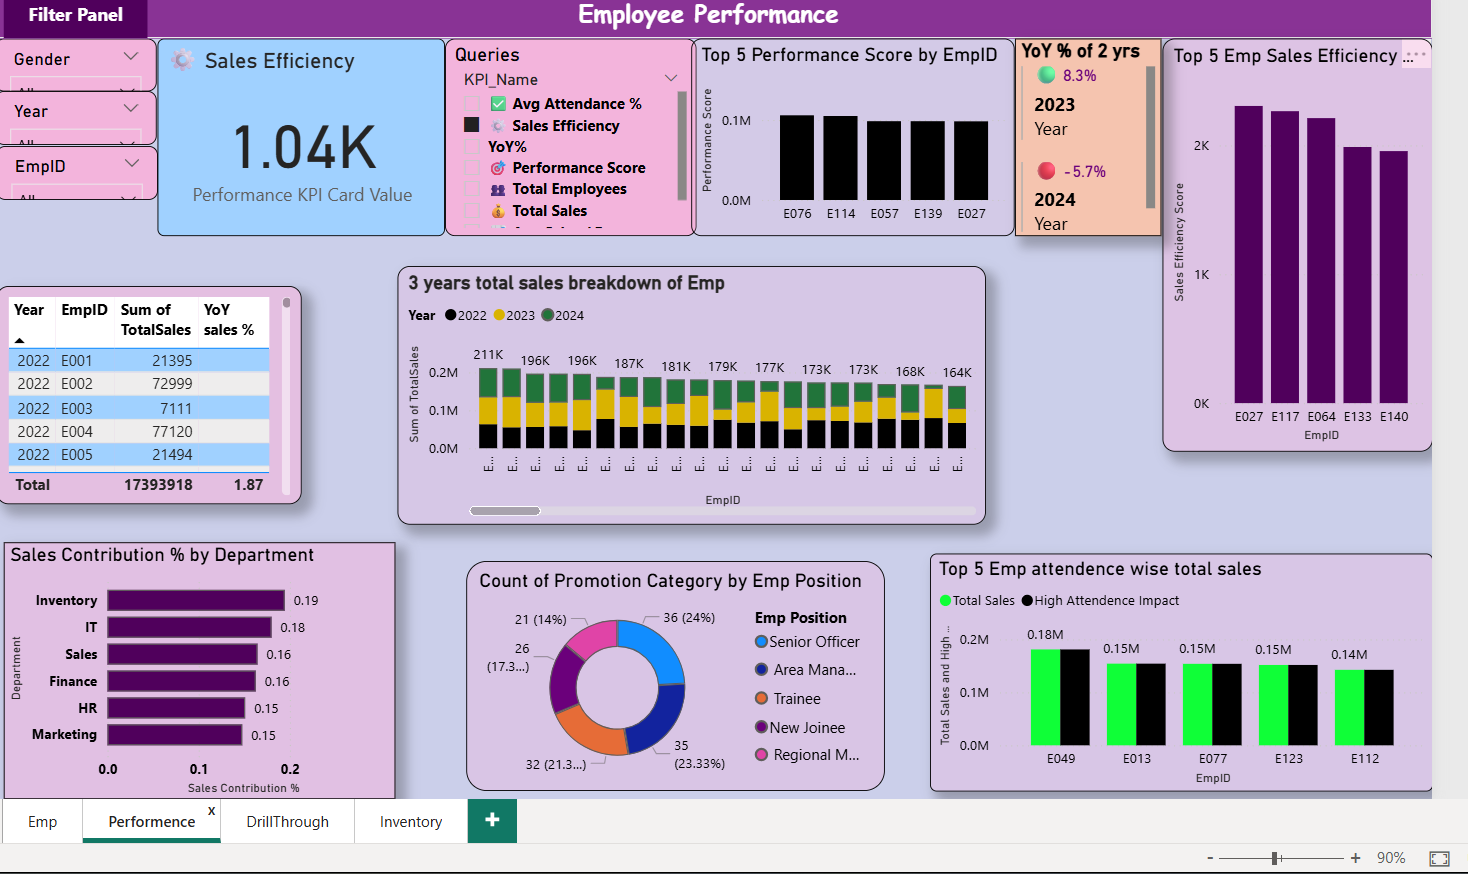

Layout of this report page (visuals, bound fields, positions):
{"tool":"powerbi","page":{"name":"Performence","canvas":[1280,720],"ordinal":1},"visuals":[{"type":"card","fields":{"Values":["Employee_Performance.Performance KPI Card Value"]},"box":[145.1,42.2,256.2,175.9],"z":0},{"type":"slicer","title":"Queries ","fields":{"Values":["Toggle_Performance_Card.KPI_Name"]},"box":[401.3,42.2,224.3,175.9],"z":1000},{"type":"slicer","fields":{"Values":["Employee_Master.Gender"]},"box":[0,42.1,144,47.4],"z":2000},{"type":"tableEx","fields":{"Values":["Employee_Performance.Year","Employee_Master.EmpID","Sum(Employee_Performance.TotalSales)","Employee_Performance.YoY sales %"]},"box":[1,262.4,271.6,194.5],"z":3000},{"type":"columnChart","title":"3 years total sales breakdown of Emp","fields":{"Y":["Sum(Employee_Performance.TotalSales)"],"Category":["Employee_Master.EmpID"],"Series":["Employee_Performance.Year"]},"box":[358.1,244.9,523.7,230.5],"z":4000},{"type":"textbox","box":[0,0,1280.2,42.1],"z":5000},{"type":"slicer","fields":{"Values":["Date Table.Year"]},"box":[0,89.6,144,48.3],"z":6000},{"type":"slicer","fields":{"Values":["Employee_Master.EmpID"]},"box":[1,137.9,144.1,48.4],"z":7000},{"type":"donutChart","fields":{"Category":["Employee_Master.Emp Position"],"Y":["CountNonNull(Employee_Master.Promotion Category)"]},"box":[419.7,507.5,373.2,204.6],"z":8000},{"type":"columnChart","title":"Top 5 Performance Score by EmpID","fields":{"Category":["Employee_Performance.EmpID"],"Y":["Employee_Performance.Performance Score"]},"box":[620.5,42.2,288.1,175.9],"z":9000},{"type":"columnChart","title":"Top 5 Emp Sales Efficiency Score Wise ","fields":{"Category":["Employee_Master.EmpID"],"Y":["Employee_Performance.Sales Efficiency Score"]},"box":[1039.6,42.1,240.6,367.9],"z":10000},{"type":"clusteredColumnChart","title":"Top 5 Emp attendence wise total sales ","fields":{"Y":["Employee_Performance.Total Sales","Employee_Performance.High Attendence Impact"],"Category":["Employee_Master.EmpID"]},"box":[832.4,500.5,447.8,211.6],"z":11000},{"type":"clusteredBarChart","fields":{"Category":["Employee_Master.Department"],"Y":["Employee_Performance.Sales Contribution %"]},"box":[7.9,490.8,348.6,229.2],"z":12000},{"type":"textbox","box":[7.9,4.4,128.2,37.8],"z":13000},{"type":"multiRowCard","title":"YoY % of 2 yrs","fields":{"Values":["Employee_Performance.YoY % with Emoji","Employee_Performance.Year"]},"box":[908.6,42.2,130.7,175.9],"z":14000}]}

Visuals, with their boxes on the page's 1280x720 design canvas (x1, y1, x2, y2). These are canvas units, not pixel positions in the 1468x874 screenshot, which may show the page scaled, cropped or inside an application window:
card - Employee_Performance.Performance KPI Card Value: rect(145, 42, 401, 218)
"Queries " slicer: rect(401, 42, 626, 218)
slicer - Employee_Master.Gender: rect(0, 42, 144, 90)
tableEx - Employee_Performance.Year x Employee_Master.EmpID: rect(1, 262, 273, 457)
"3 years total sales breakdown of Emp" columnChart: rect(358, 245, 882, 475)
textbox: rect(0, 0, 1280, 42)
slicer - Date Table.Year: rect(0, 90, 144, 138)
slicer - Employee_Master.EmpID: rect(1, 138, 145, 186)
donutChart - Employee_Master.Emp Position x CountNonNull(Employee_Master.Promotion Category): rect(420, 508, 793, 712)
"Top 5 Performance Score by EmpID" columnChart: rect(620, 42, 909, 218)
"Top 5 Emp Sales Efficiency Score Wise " columnChart: rect(1040, 42, 1280, 410)
"Top 5 Emp attendence wise total sales " clusteredColumnChart: rect(832, 500, 1280, 712)
clusteredBarChart - Employee_Master.Department x Employee_Performance.Sales Contribution %: rect(8, 491, 356, 720)
textbox: rect(8, 4, 136, 42)
"YoY % of 2 yrs" multiRowCard: rect(909, 42, 1039, 218)
